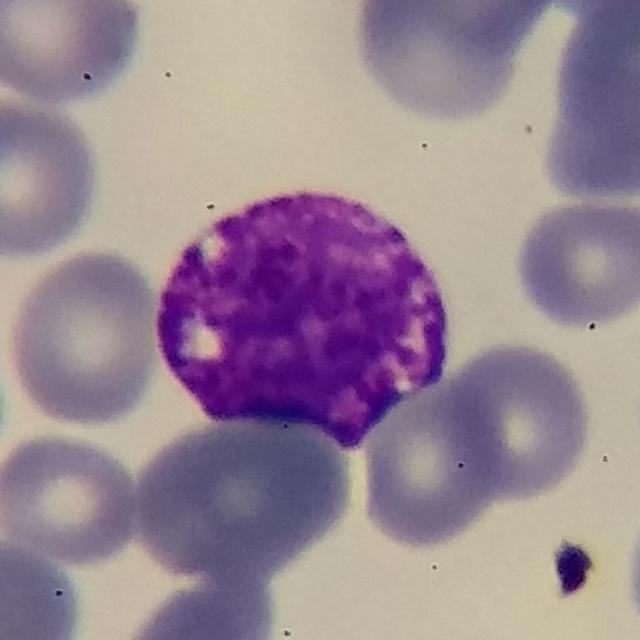Basophil: (138, 166, 464, 474), (534, 1, 640, 213)
Lymphocyte: (532, 1, 640, 214)
Platelets: (548, 537, 601, 601)
RBC: (132, 405, 360, 589), (0, 244, 164, 431), (433, 335, 599, 509), (354, 378, 507, 554), (348, 1, 536, 126), (533, 9, 640, 210), (1, 426, 144, 568), (0, 94, 106, 264), (509, 195, 639, 333), (0, 0, 149, 108), (115, 569, 285, 640), (0, 533, 87, 640), (621, 486, 640, 637), (0, 310, 14, 483)
